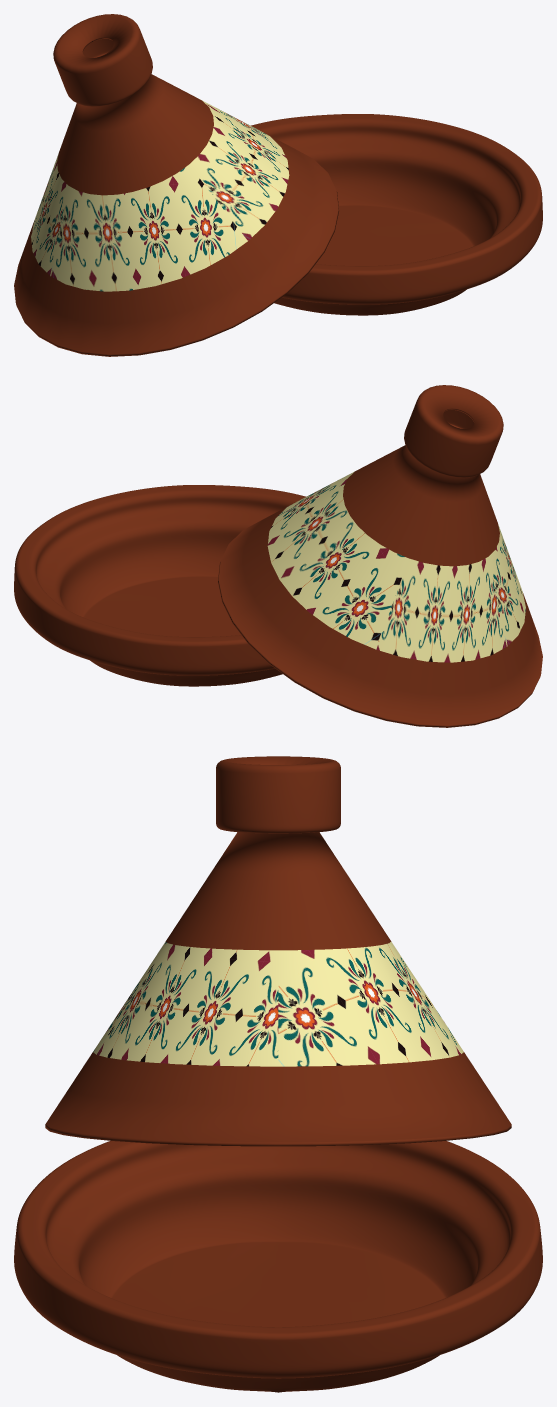
The model's file is moroccan tajine2.fbx.
3 renders of one model, top to bottom at view 1: azimuth 30°, elevation 25°; view 2: azimuth 150°, elevation 25°; view 3: azimuth 270°, elevation 25°, orthographic. The views are drawn at different scales.
Visible parts, largest first — view 1: Circle.003, Circle.002; view 2: Circle.003, Circle.002; view 3: Circle.002, Circle.003.
Part boxes in pixels (box(x1,y1,x2,y2)): Circle.003: box(14, 14, 338, 356); Circle.002: box(251, 114, 542, 315); Circle.003: box(218, 385, 542, 727); Circle.002: box(14, 485, 305, 686); Circle.002: box(14, 1140, 542, 1392); Circle.003: box(45, 756, 511, 1146).
Size of what is drawn, in the model's own units: 193 by 114 by 135.
2 materials, 1 textured.
